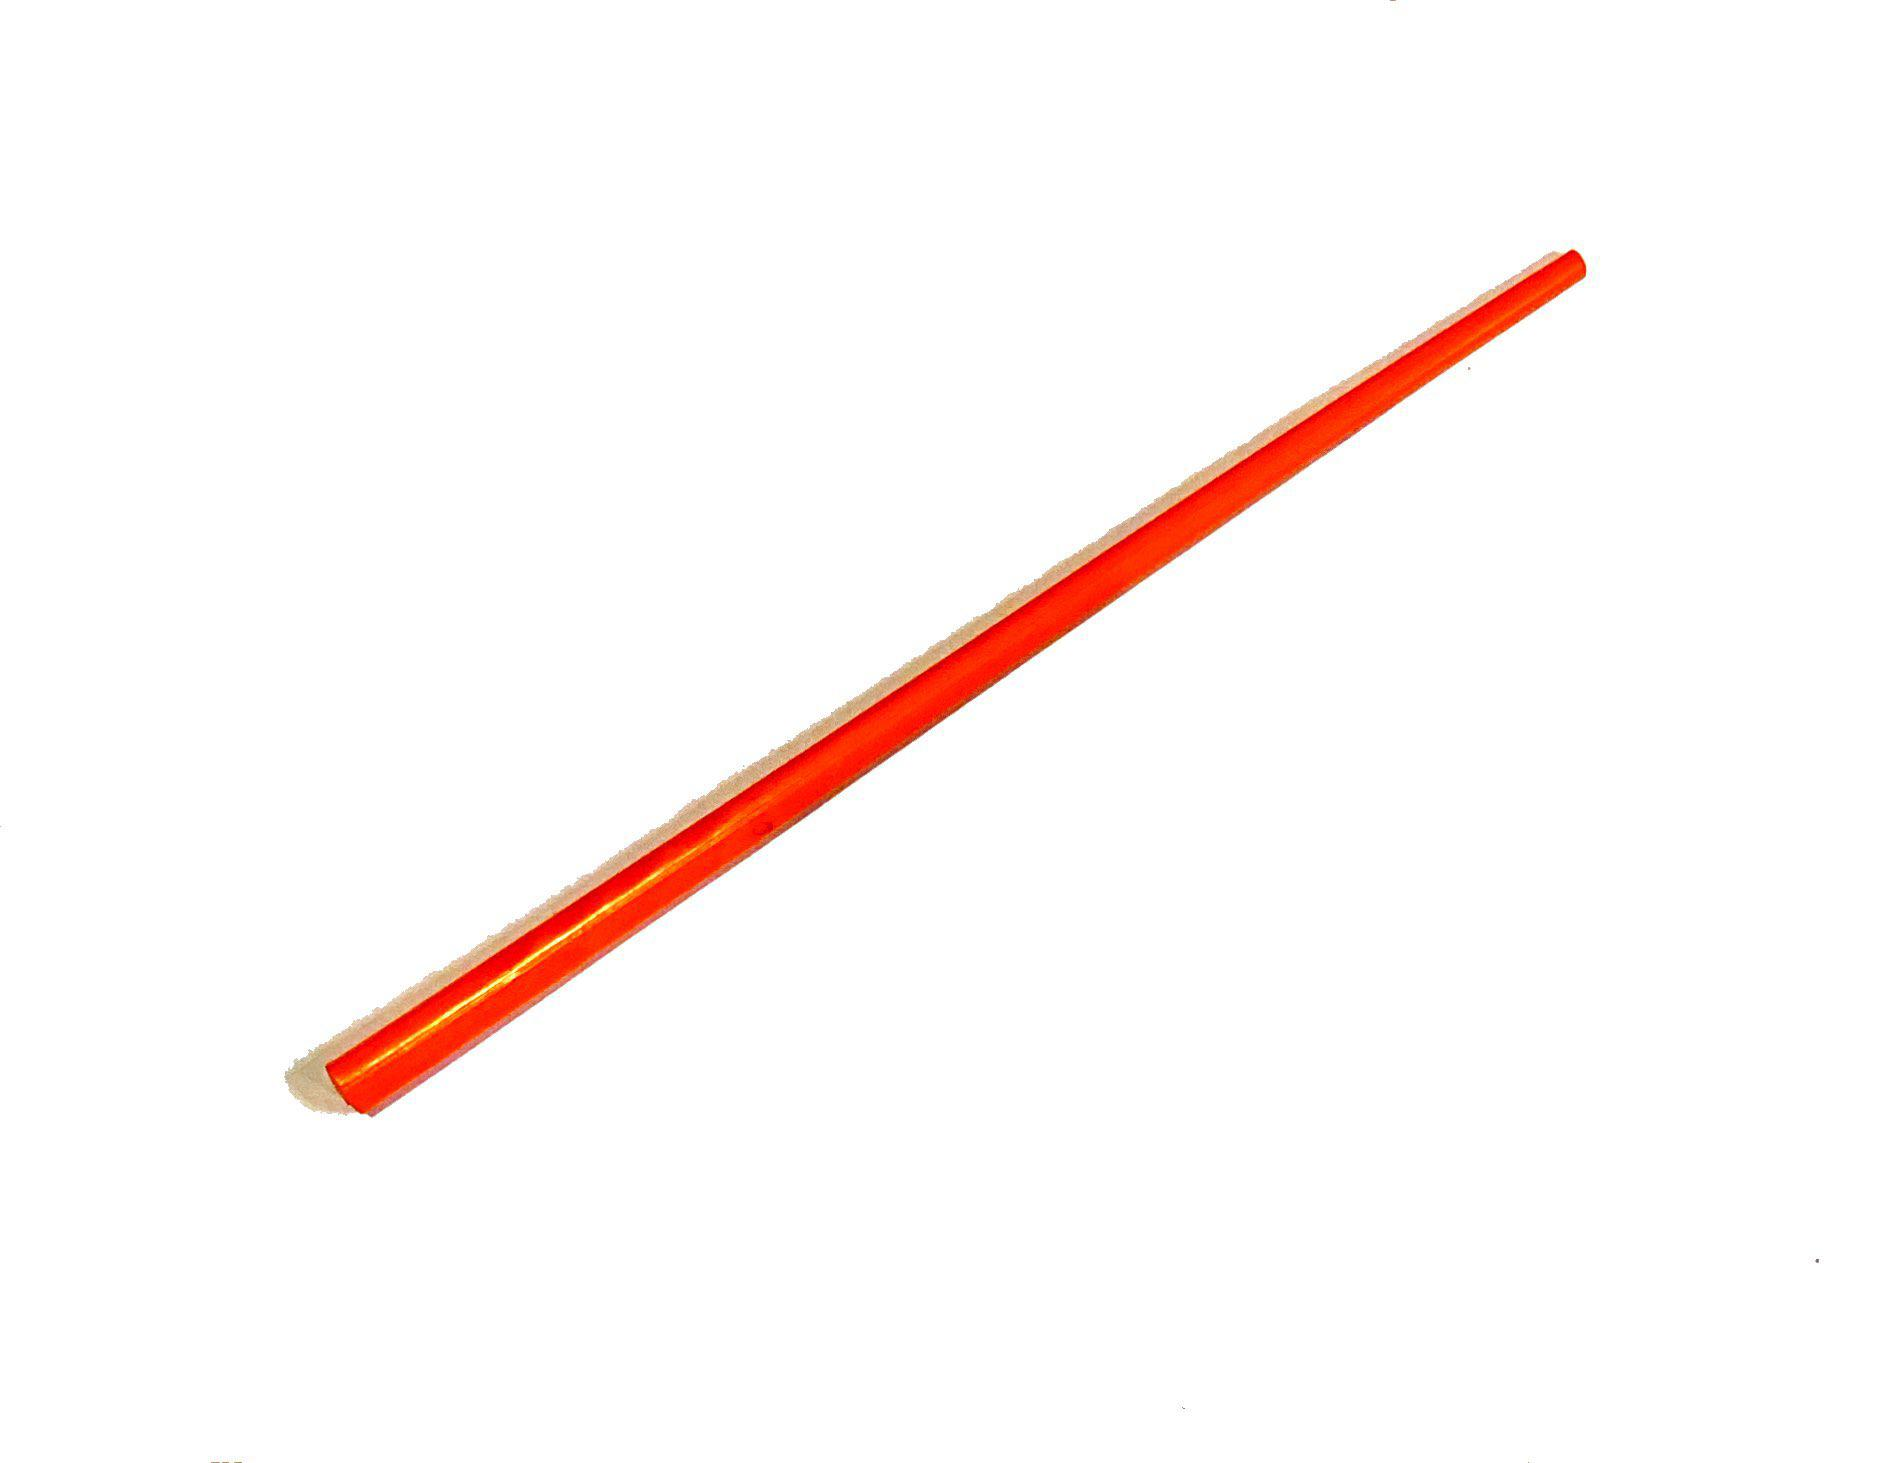Chopstick: (275, 152, 1717, 1282)
